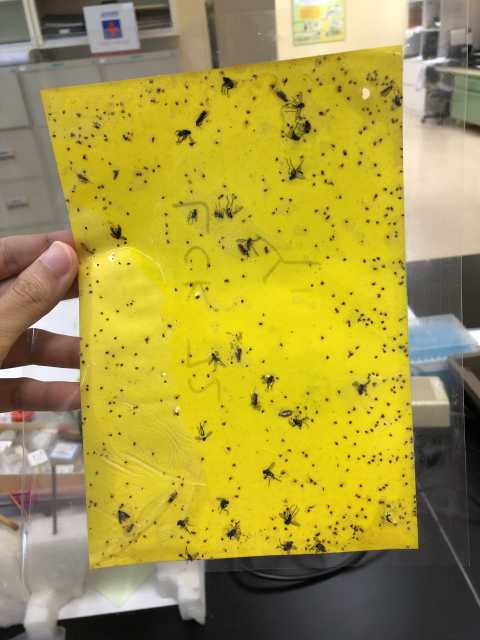DBM: (114, 507, 133, 525), (277, 407, 294, 418)
